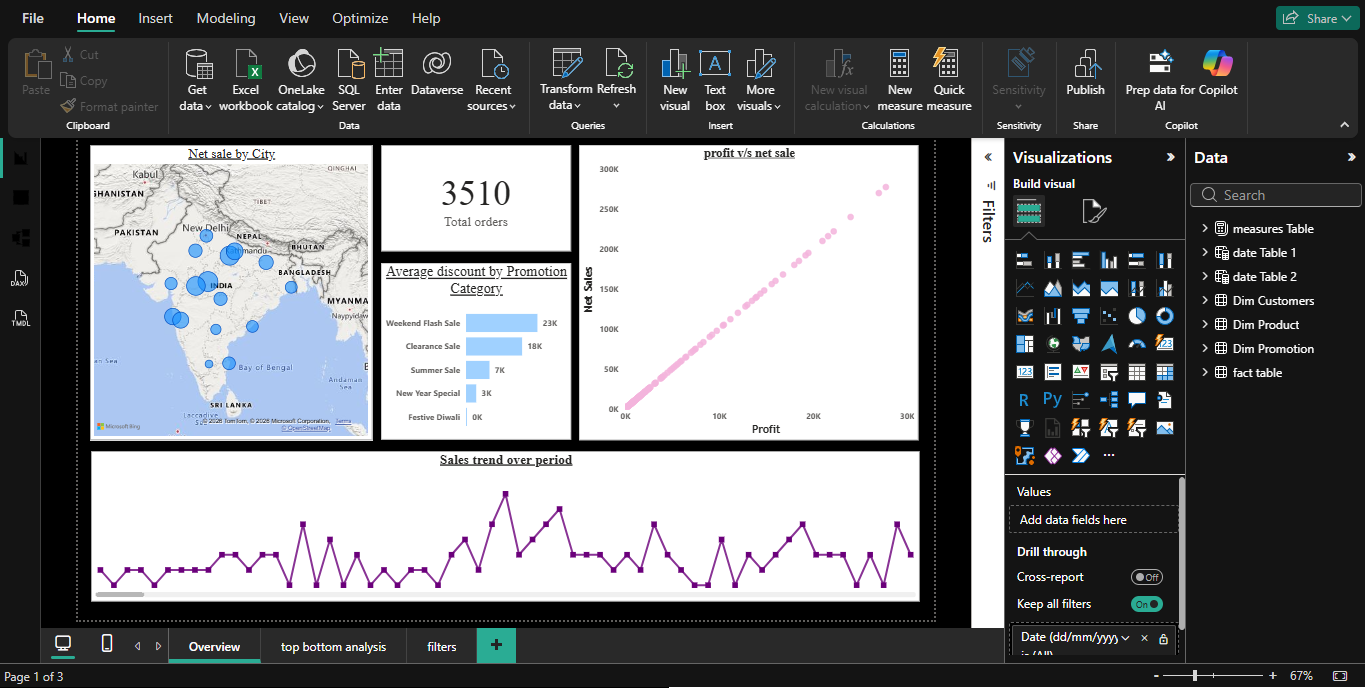

Layout of this report page (visuals, bound fields, positions):
{"tool":"powerbi","page":{"name":"Overview","canvas":[1280,720],"ordinal":0},"visuals":[{"type":"lineChart","title":"Sales trend over period","fields":{"Y":["Count(fact table.net sale)"],"Category":["fact table.Date (dd/mm/yyyy)","fact table.Date (dd/mm/yyyy) Hierarchy.Date (dd/mm/yyyy)"]},"box":[20,467.7,1238.5,224.6],"z":0},{"type":"scatterChart","title":"profit  v/s  net sale","fields":{"Y":["fact table.net sale"],"X":["fact table.profit"]},"box":[747.9,10.3,506.9,440.8],"z":1000},{"type":"barChart","title":"Average discount by Promotion Category","fields":{"Y":["Avg(fact table.disc value)"],"Category":["Dim Promotion.Promotion Name"]},"box":[452.6,186.6,283.6,264.5],"z":2000},{"type":"map","title":" Net sale by City","fields":{"Category":["Dim Customers.City"],"Size":["Sum(fact table.net sale)"]},"box":[17.6,10.3,421.7,440.8],"z":3000},{"type":"card","fields":{"Values":["Count(fact table.order no)"]},"box":[452.6,10.3,283.6,158.7],"z":4000}]}

Visuals, with their boxes on the page's 1280x720 design canvas (x1, y1, x2, y2). These are canvas units, not pixel positions in the 1365x688 screenshot, which may show the page scaled, cropped or inside an application window:
"Sales trend over period" lineChart: crop(20, 468, 1258, 692)
"profit  v/s  net sale" scatterChart: crop(748, 10, 1255, 451)
"Average discount by Promotion Category" barChart: crop(453, 187, 736, 451)
" Net sale by City" map: crop(18, 10, 439, 451)
card - Count(fact table.order no): crop(453, 10, 736, 169)
